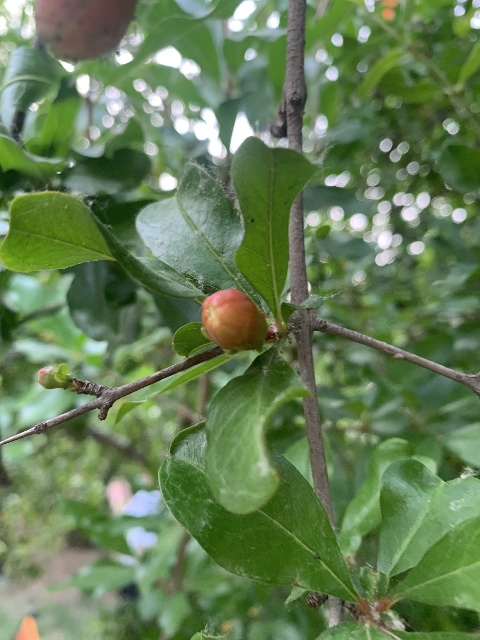bud: (201, 288, 266, 353)
